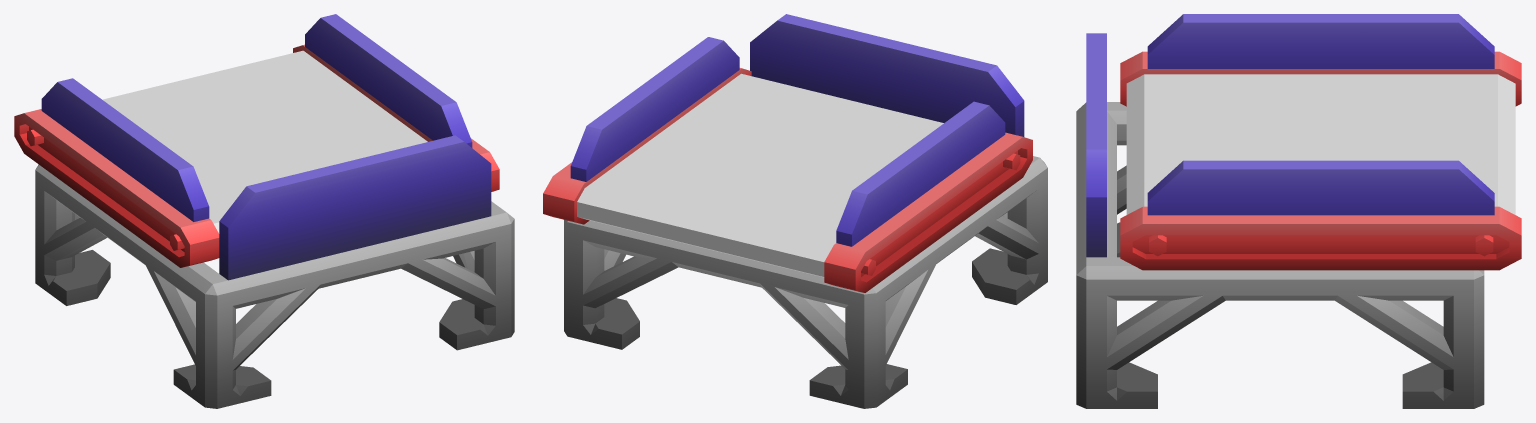
File: ConveyorBelt.fbx
3 views of the same model, side by side, from view 1: azimuth 30°, elevation 25°; view 2: azimuth 150°, elevation 25°; view 3: azimuth 270°, elevation 25° (orthographic). The views are drawn at different scales.
Parts seen in each view (by area): view 1: ConveyorFrame, Conveyor, BarrierTall, ConveyorConnectorL, BarrierL, BarrierR, ConveyorConnectorR; view 2: Conveyor, ConveyorFrame, BarrierTall, ConveyorConnectorL, BarrierL, BarrierR, ConveyorConnectorR; view 3: Conveyor, ConveyorFrame, ConveyorConnectorR, BarrierR, BarrierL, BarrierTall, ConveyorConnectorL.
Part boxes in pixels (bbox=[...]): ConveyorFrame: bbox=[35, 164, 514, 408]; Conveyor: bbox=[102, 50, 427, 233]; BarrierTall: bbox=[219, 135, 491, 280]; ConveyorConnectorL: bbox=[14, 109, 219, 267]; BarrierL: bbox=[41, 78, 209, 221]; BarrierR: bbox=[305, 14, 472, 147]; ConveyorConnectorR: bbox=[293, 44, 499, 191]; Conveyor: bbox=[577, 73, 943, 277]; ConveyorFrame: bbox=[564, 156, 1047, 408]; BarrierTall: bbox=[750, 14, 1024, 136]; ConveyorConnectorL: bbox=[824, 132, 1032, 292]; BarrierL: bbox=[836, 101, 1005, 246]; BarrierR: bbox=[570, 37, 739, 181]; ConveyorConnectorR: bbox=[543, 68, 751, 224]; Conveyor: bbox=[1126, 74, 1515, 214]; ConveyorFrame: bbox=[1076, 102, 1484, 408]; ConveyorConnectorR: bbox=[1120, 206, 1521, 270]; BarrierR: bbox=[1147, 160, 1494, 215]; BarrierL: bbox=[1147, 14, 1494, 68]; BarrierTall: bbox=[1086, 33, 1106, 257]; ConveyorConnectorL: bbox=[1120, 51, 1521, 106].
Bounding box in the file's own units: 78.74 × 49.21 × 85.95.
